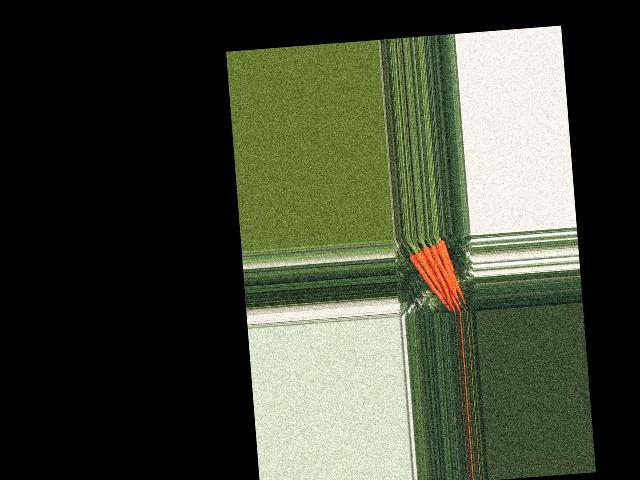carrot: (435, 237, 468, 310)
